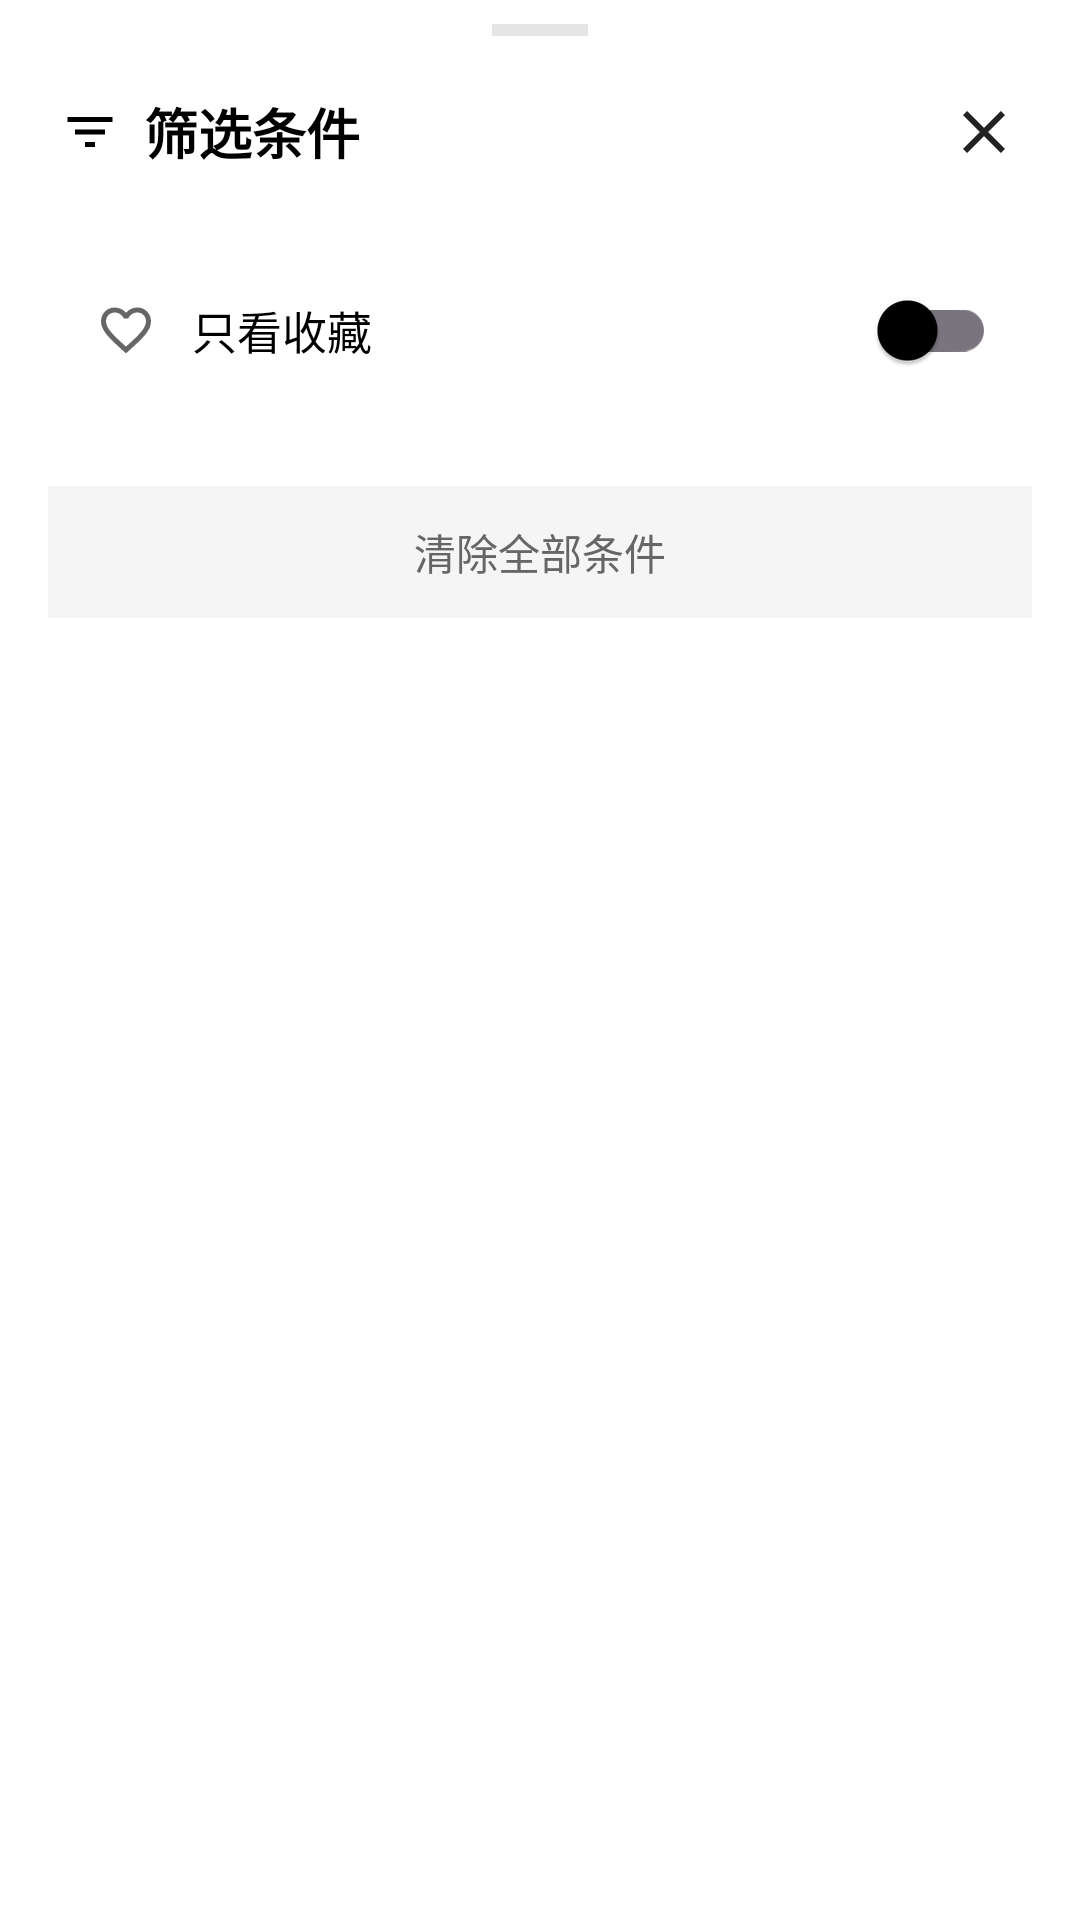

Icon click points for this 1080px x 1920px phone screenshot, format [x,y]:
favorite: [126,330]
filter: [90,132]
取消: [984,132]
